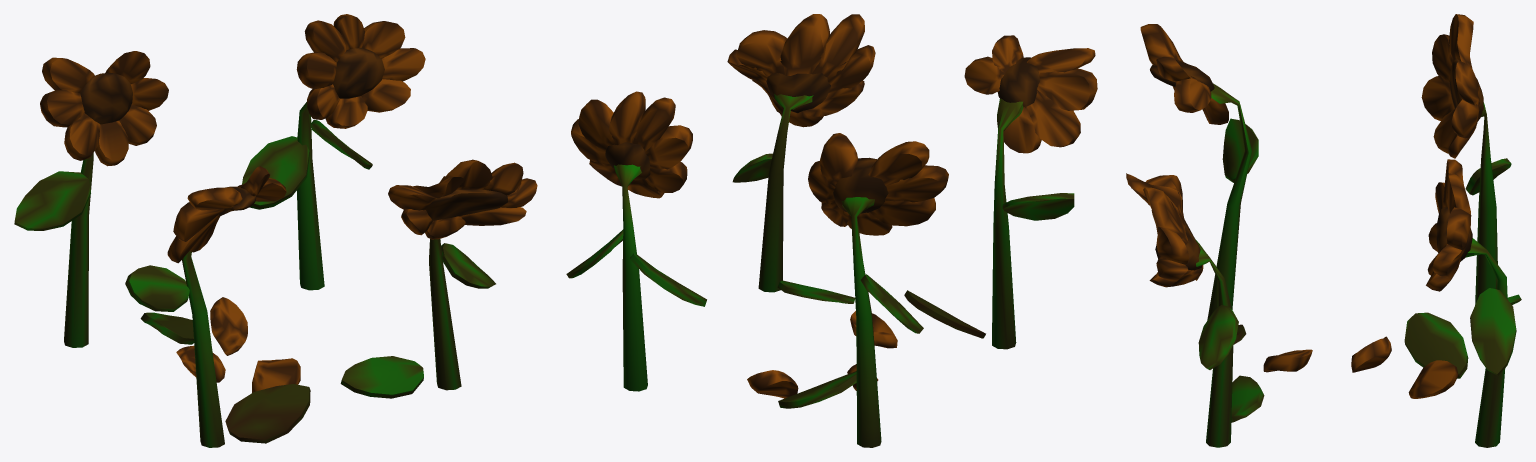
File: Farm_Crop_Sunflower_Dead.glb
3 views of the same model, side by side, from view 1: azimuth 30°, elevation 25°; view 2: azimuth 150°, elevation 25°; view 3: azimuth 270°, elevation 25° (orthographic).
Parts seen in each view (by area): view 1: Farm_Crop_Sunflower_Dead; view 2: Farm_Crop_Sunflower_Dead; view 3: Farm_Crop_Sunflower_Dead.
Part boxes in pixels (<box>): Farm_Crop_Sunflower_Dead: <box>14,14,537,447</box>; Farm_Crop_Sunflower_Dead: <box>566,14,1097,447</box>; Farm_Crop_Sunflower_Dead: <box>1126,14,1521,447</box>.
Bounding box in the file's own units: 1.7 × 1.28 × 1.47.
1 material, 1 textured.
